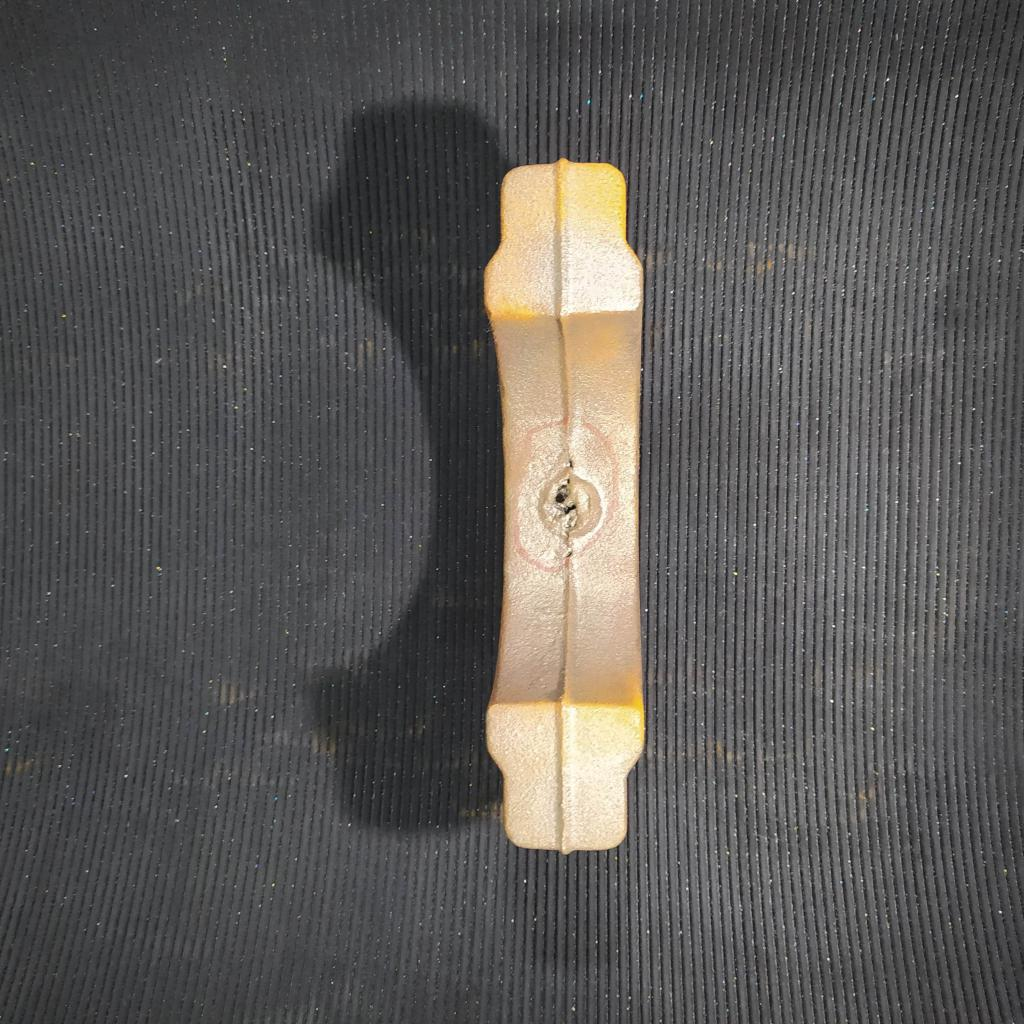buraco: (556, 480, 580, 531), (566, 458, 575, 472), (563, 552, 576, 559)
